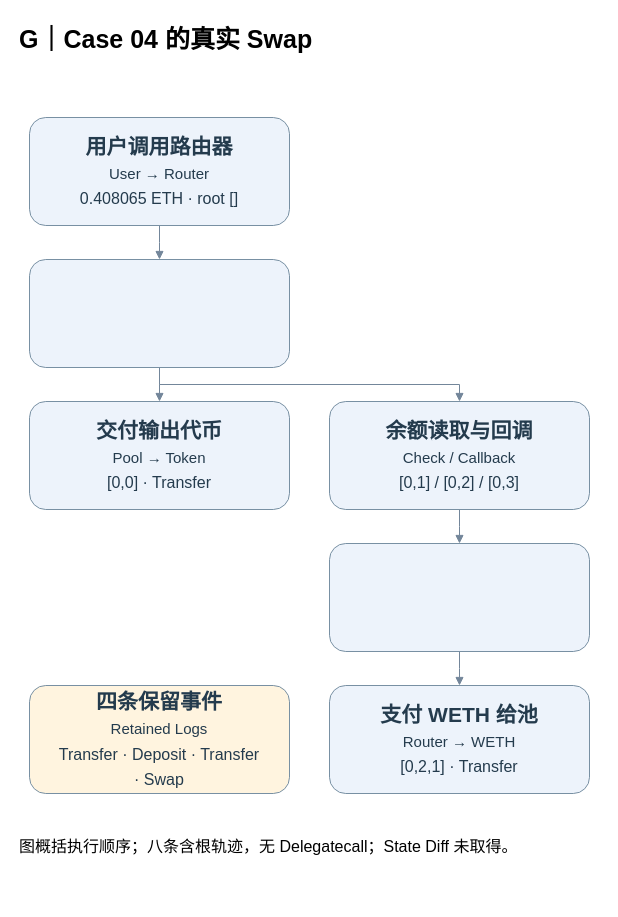
This 618x917 diagram has some shape labels left out. Here are the shapes that lost their labels. From the top down, the centre of each, then its label:
[159,313]: 调用流动性池 Router → Pool [0] · exact input
[459,597]: 包装原生 ETH Router → WETH [0,2,0] · Deposit
